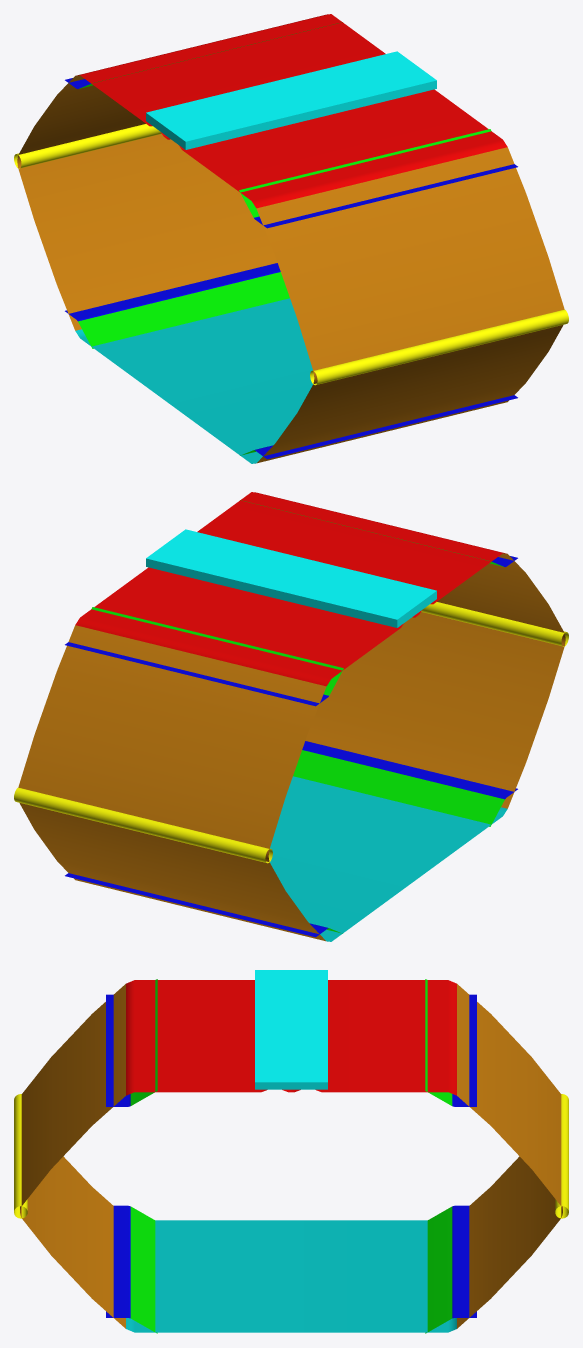
The model's file is InnerCorridorC.fbx.
3 renders of one model, top to bottom at view 1: azimuth 30°, elevation 25°; view 2: azimuth 150°, elevation 25°; view 3: azimuth 270°, elevation 25°, orthographic. The views are drawn at different scales.
Parts seen in each view (by area): view 1: merged_mid_no_lining; view 2: merged_mid_no_lining; view 3: merged_mid_no_lining.
Part boxes in pixels (x1,y1,x2,y2): merged_mid_no_lining: (14, 14, 568, 463); merged_mid_no_lining: (14, 492, 568, 941); merged_mid_no_lining: (14, 970, 568, 1333).
Size of the model in its own units: 400 by 419 by 837.
